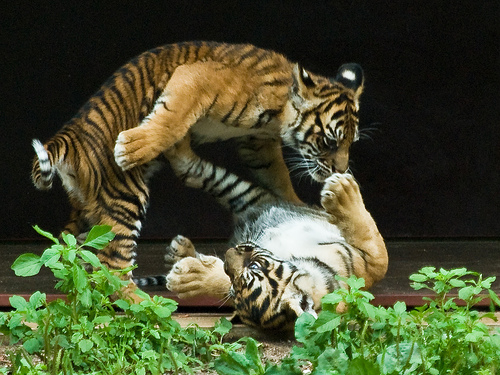Tigre: (41, 30, 367, 217)
